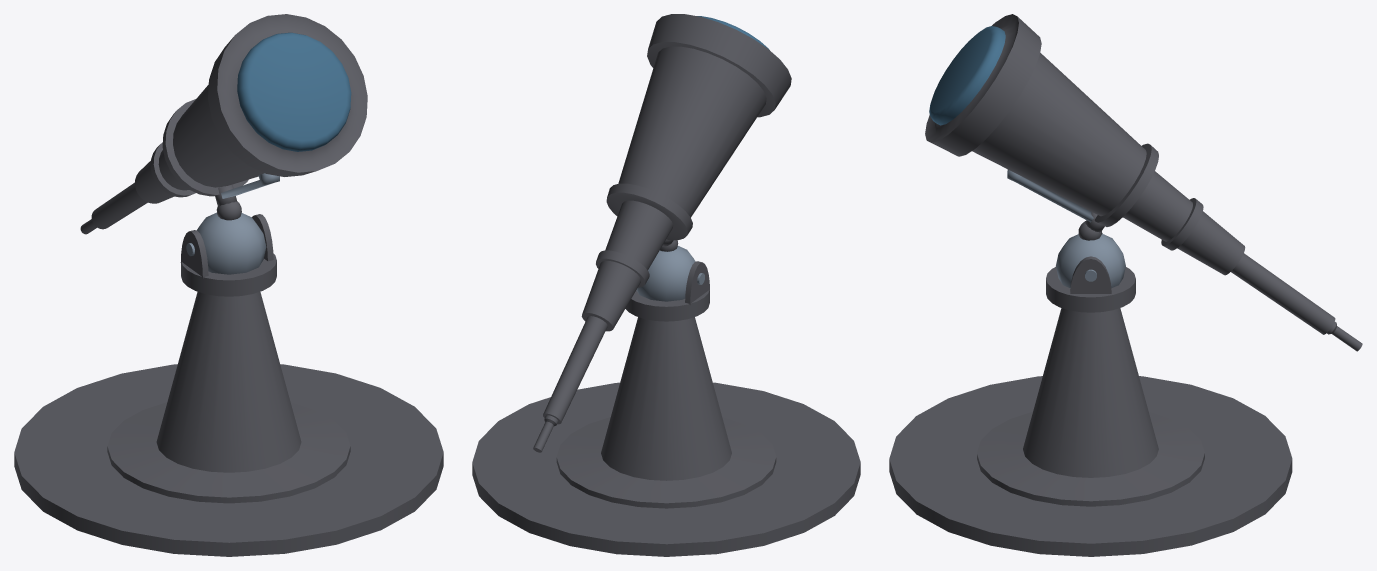
The model's file is Teleskop.fbx.
3 renders of one model, left to right at view 1: azimuth 30°, elevation 25°; view 2: azimuth 150°, elevation 25°; view 3: azimuth 270°, elevation 25°, orthographic. The views are drawn at different scales.
Parts seen in each view (by area): view 1: Teleskop; view 2: Teleskop; view 3: Teleskop.
Part boxes in pixels (x1,y1,x2,y2): Teleskop: (14, 14, 443, 556); Teleskop: (472, 14, 860, 556); Teleskop: (889, 14, 1362, 556).
Bounding box in the file's own units: 1496 × 1839 × 1757.
